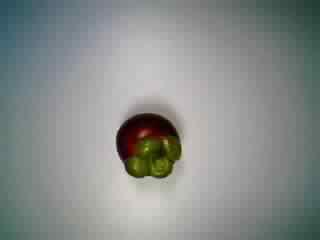mangosteen: (109, 106, 186, 180)
